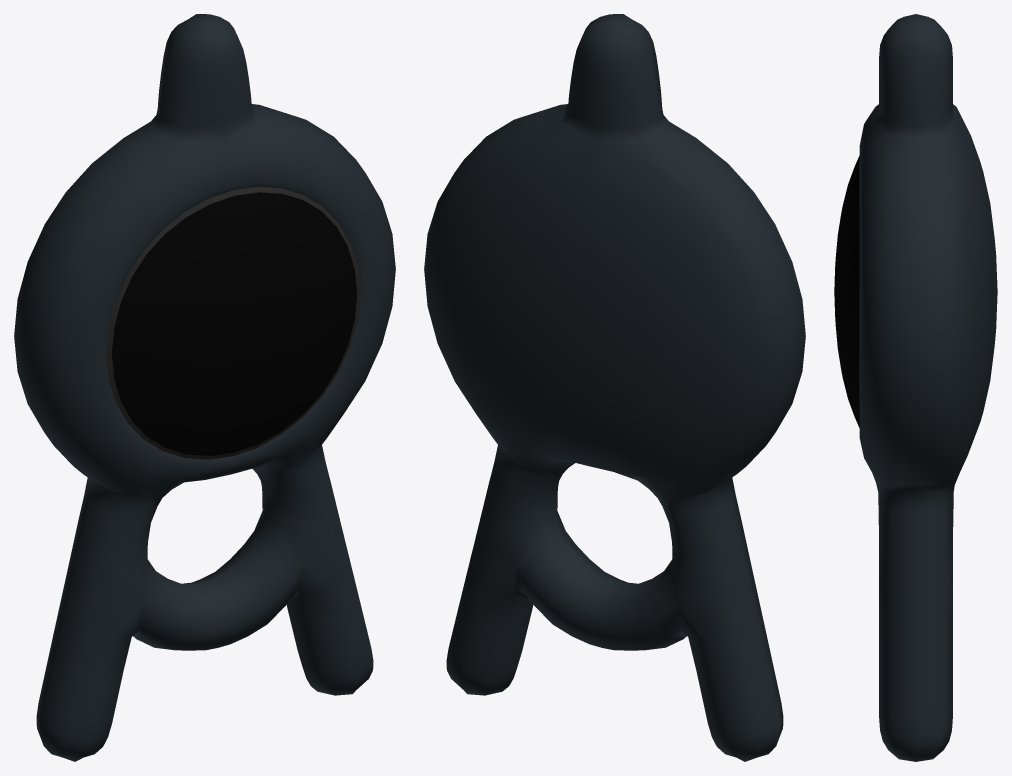
Rendered from 201 Unown-1.gltf.
The picture shows the model from 3 angles, left to right: view 1: azimuth 30°, elevation 25°; view 2: azimuth 150°, elevation 25°; view 3: azimuth 270°, elevation 25°; orthographic projection. The views are drawn at different scales.
Visible parts, largest first — view 1: UnownA; view 2: UnownA; view 3: UnownA.
Part boxes in pixels (x1,y1,x2,y2): UnownA: (14,14,395,761); UnownA: (424,14,805,761); UnownA: (834,14,997,761).
Bounding box in the file's own units: 66.47 × 123 × 26.92.
3 materials, 3 textured.
